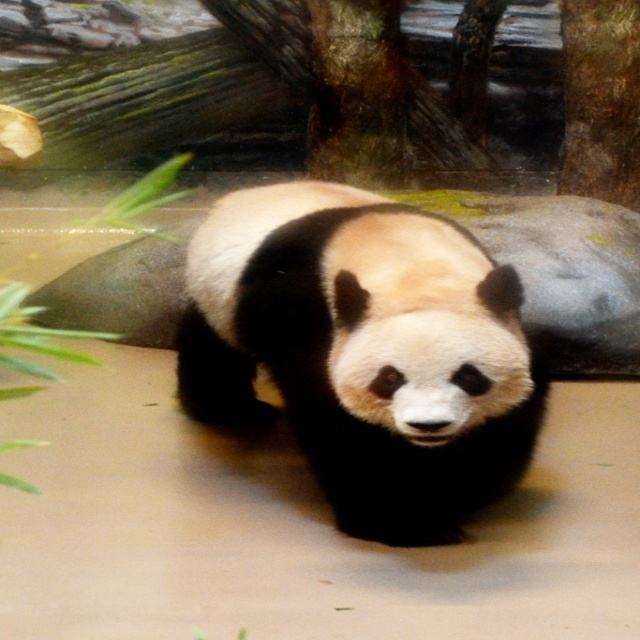Panda: (157, 171, 552, 556)
